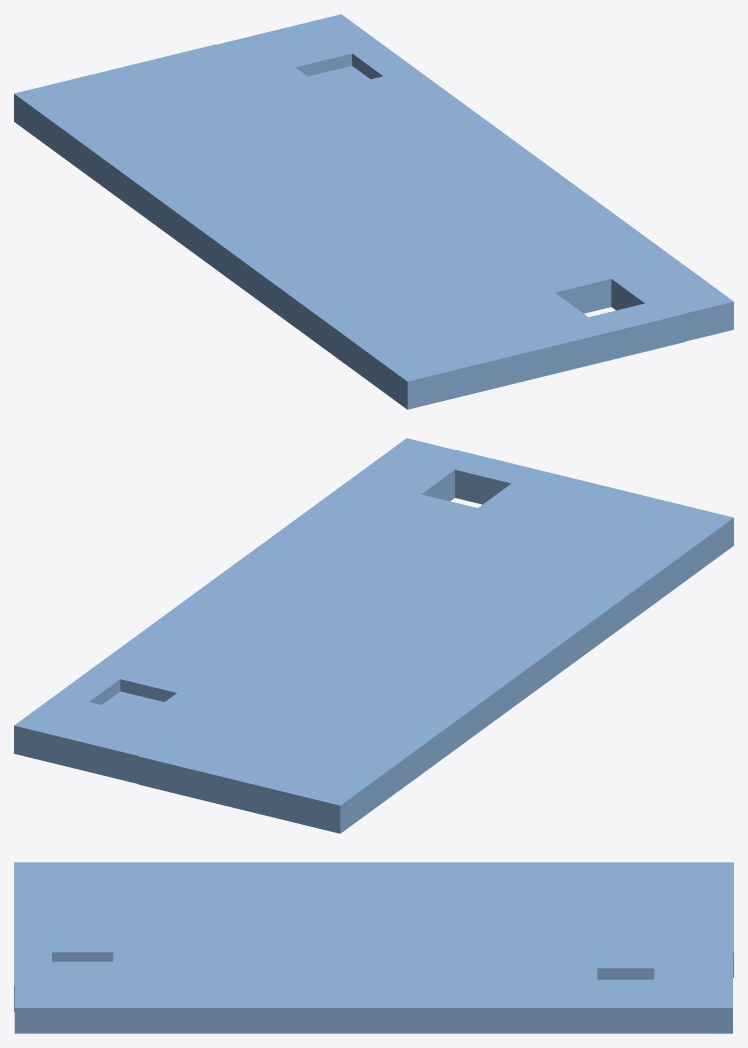
File: _floor.fbx
3 views of the same model, one above another, from view 1: azimuth 30°, elevation 25°; view 2: azimuth 150°, elevation 25°; view 3: azimuth 270°, elevation 25° (orthographic). The views are drawn at different scales.
Parts seen in each view (by area): view 1: Cube; view 2: Cube; view 3: Cube.
Boxes of the visible parts, x1,y1,x2,y2 form: Cube: (14,14,733,409); Cube: (14,438,733,833); Cube: (14,862,733,1033).
Size of the model in its own units: 486 by 40 by 1014.
